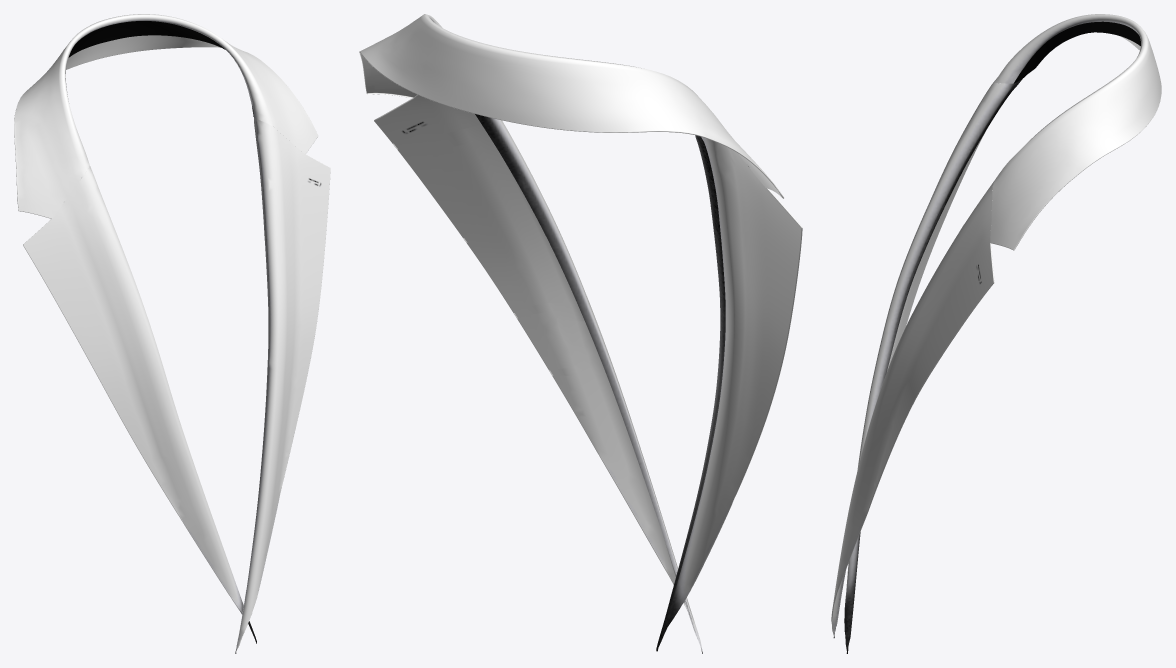
File: xifulingzi.FBX
3 views of the same model, side by side, from view 1: azimuth 30°, elevation 25°; view 2: azimuth 150°, elevation 25°; view 3: azimuth 270°, elevation 25° (orthographic). The views are drawn at different scales.
Visible parts, largest first — view 1: default008; view 2: default008; view 3: default008.
Part boxes in pixels (x1,y1,x2,y2): default008: [14, 14, 330, 653]; default008: [359, 14, 802, 653]; default008: [831, 14, 1161, 653].
Bounding box in the file's own units: 25.49 × 42.2 × 20.87.
